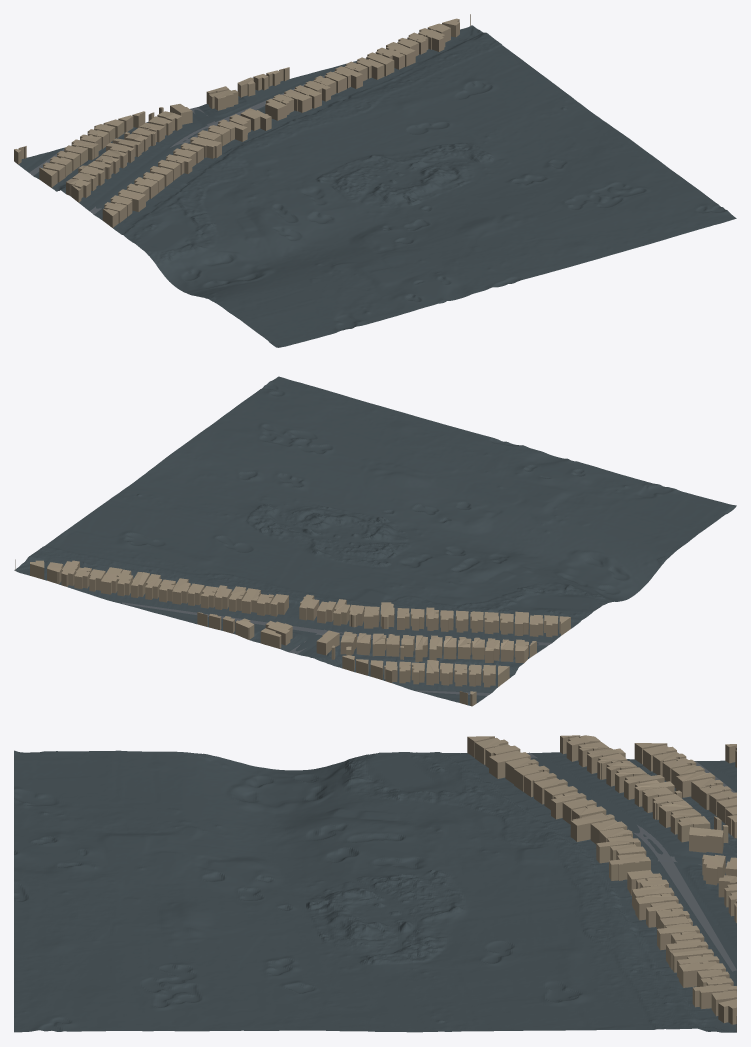
Rendered from epsg26910-1422-10868.lod0.glb.
3 views of the same model, one above another, from view 1: azimuth 30°, elevation 25°; view 2: azimuth 150°, elevation 25°; view 3: azimuth 270°, elevation 25° (orthographic). The views are drawn at different scales.
Visible parts, largest first — view 1: epsg26910-1422-10868-lod0; view 2: epsg26910-1422-10868-lod0; view 3: epsg26910-1422-10868-lod0.
Boxes of the visible parts, x1,y1,x2,y2 form: epsg26910-1422-10868-lod0: [14, 14, 736, 347]; epsg26910-1422-10868-lod0: [14, 376, 736, 706]; epsg26910-1422-10868-lod0: [14, 735, 736, 1032].
Size of the model in its own units: 384 by 34.6 by 384.
